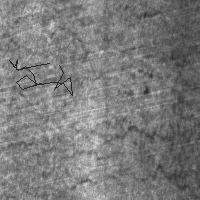crazing: (5, 120, 172, 194), (169, 49, 200, 199), (9, 59, 72, 95)
